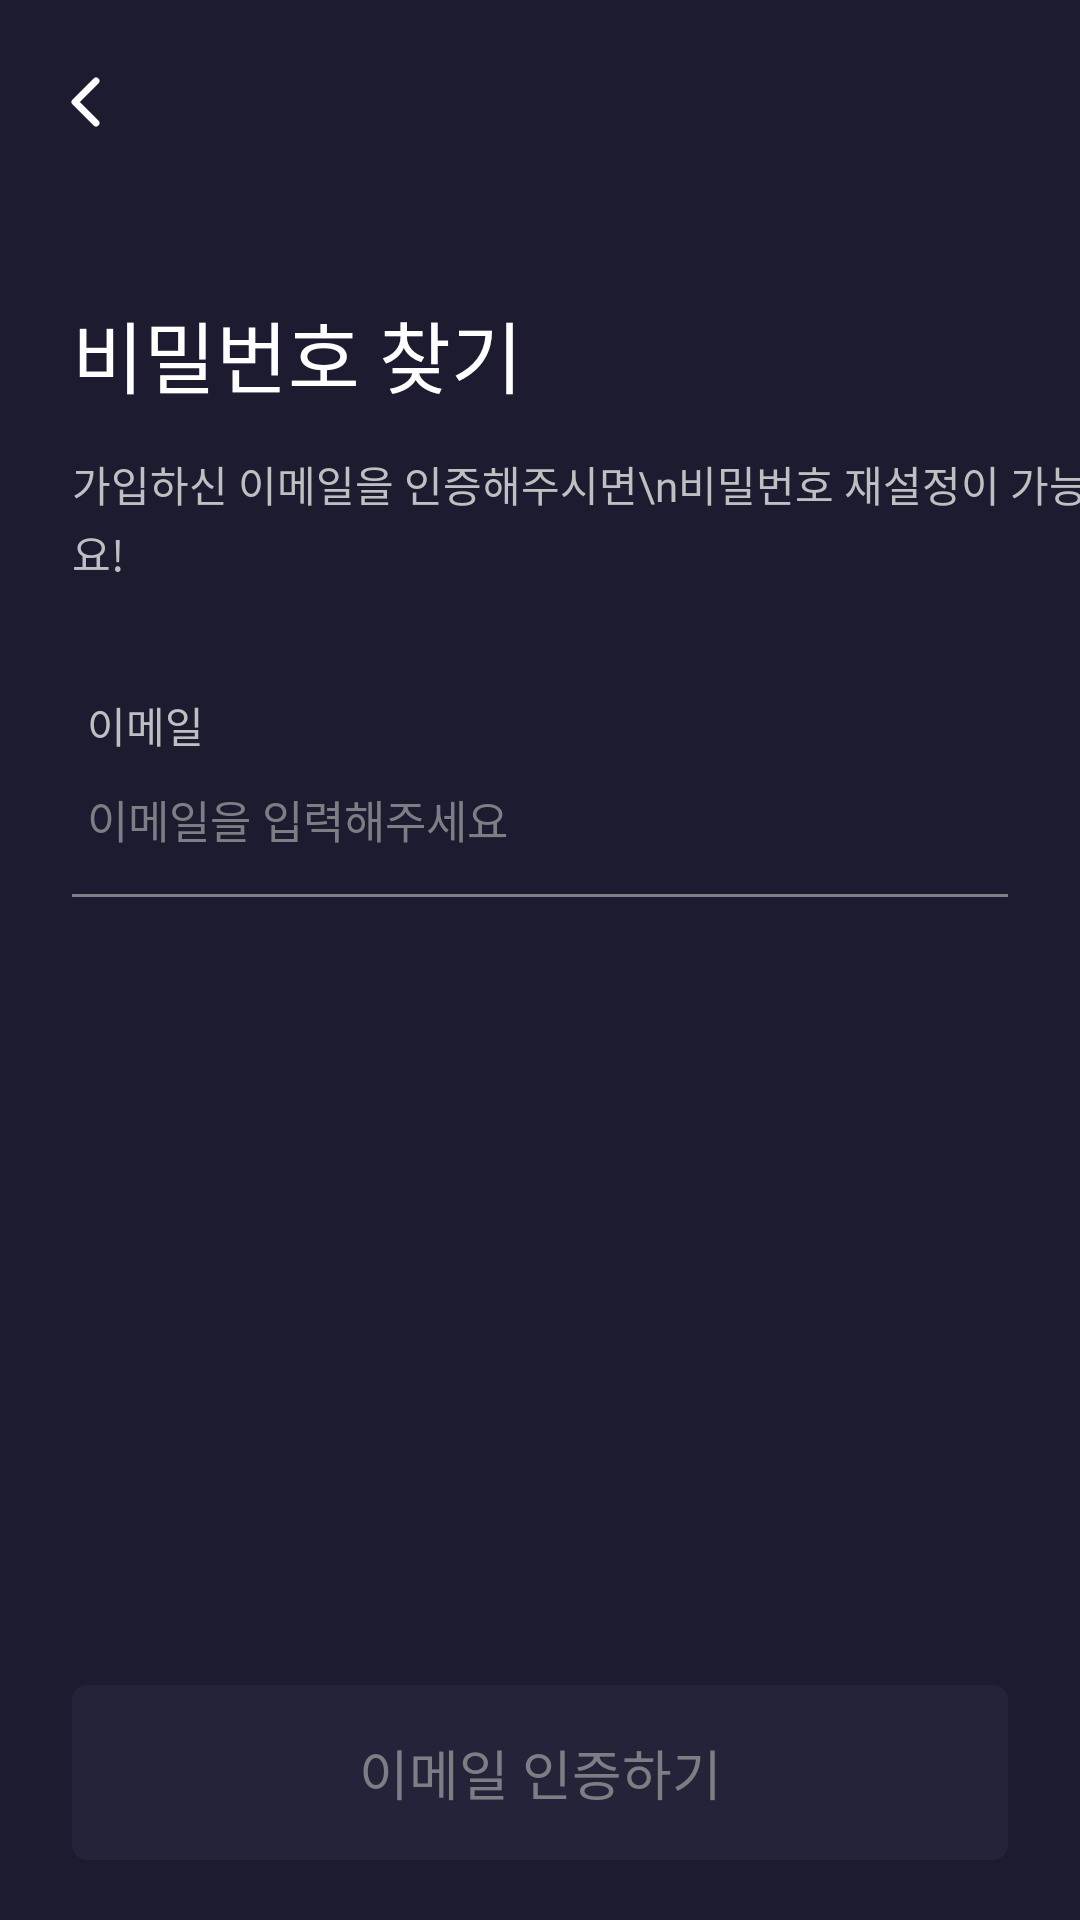

Point at icon controls on the screen. Image size 1080×1920, points as [x,y].
arrow left: [85,102]
